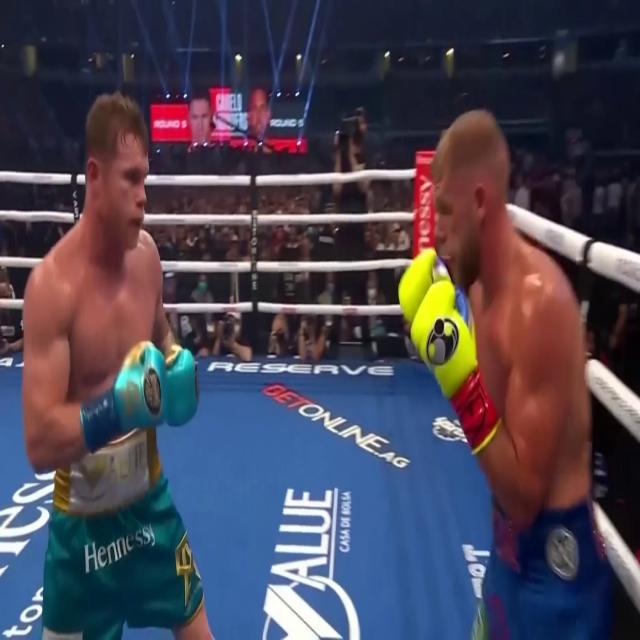boxer_1: (432, 107, 604, 585)
boxer_2: (49, 89, 164, 514)
gloves_1: (399, 248, 501, 453)
gloves_2: (80, 341, 198, 452)
